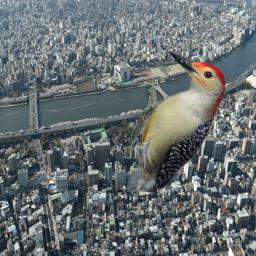Woodpecker: (127, 51, 225, 192)
